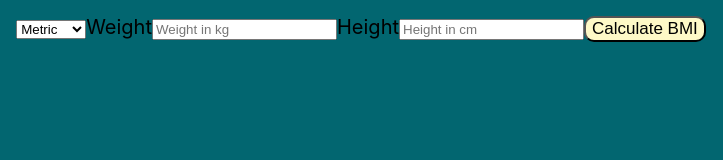
Test case: BMI Calculator › Calculates BMI in metric
Select "Metric" in the dropdown with id "select-method" at (51, 30), box top-left (16, 20), bottom-right (86, 39)
Type "90" into the number field with id "weight" at (245, 30), box top-left (152, 19), bottom-right (337, 40)
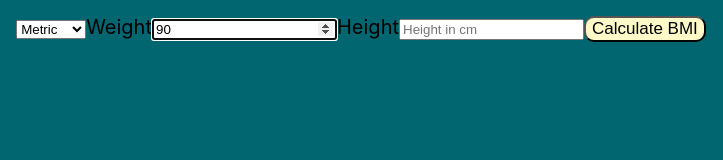
Type "190" into the number field with id "height" at (492, 30), box top-left (399, 19), bottom-right (584, 40)
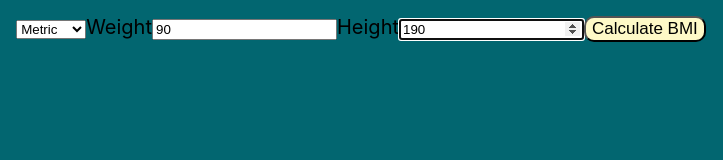
Click the button with id "calculate" at (645, 29), box top-left (584, 16), bottom-right (706, 42)
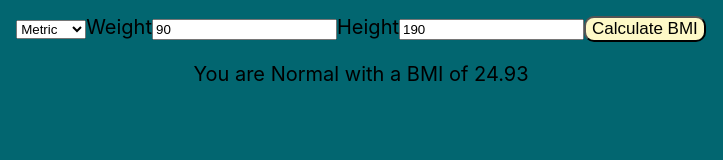
Expected: the text with id "bmi-message" reads "You are Normal with a BMI of 24.93", top-left (194, 62), bottom-right (529, 86)
